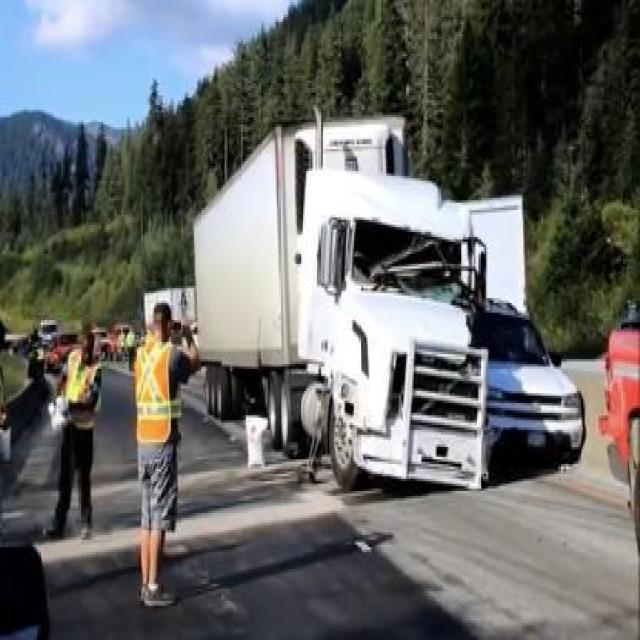accident: (178, 65, 600, 502)
